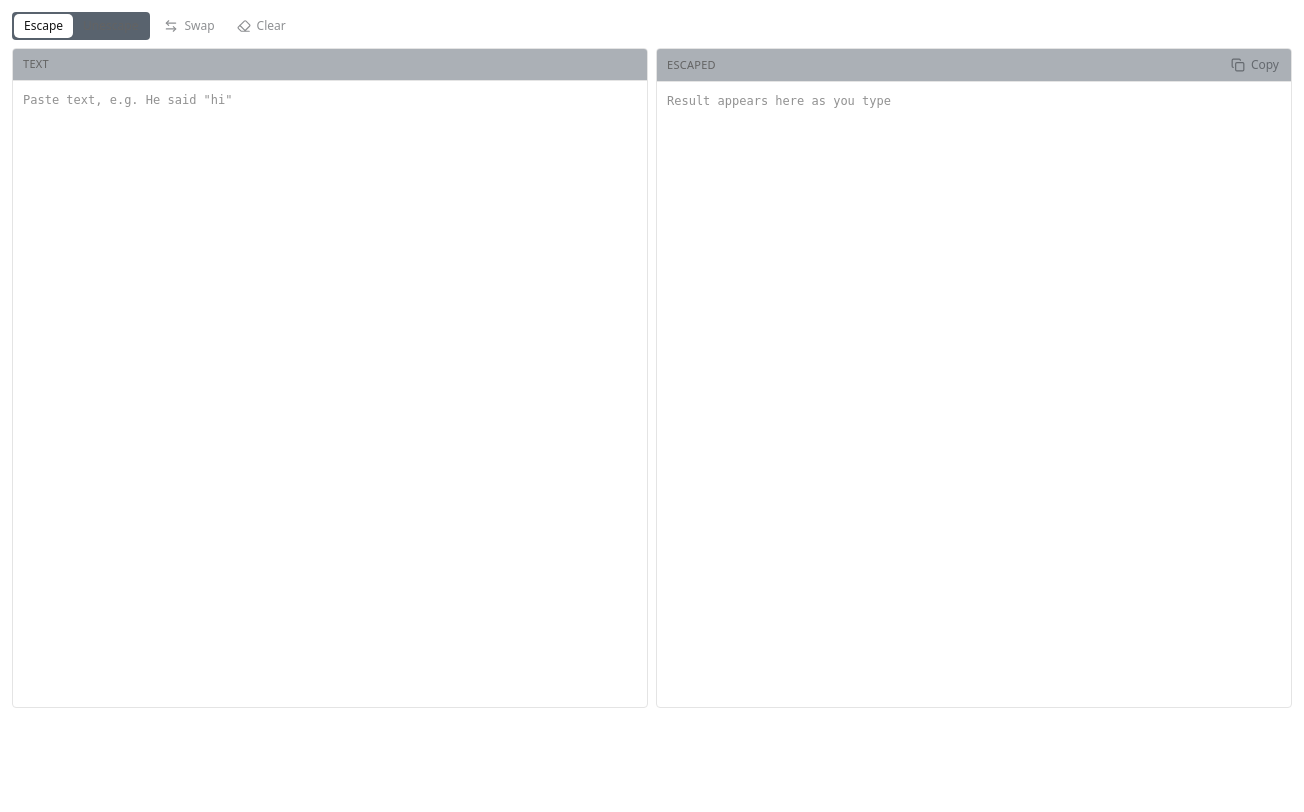
Test: JsonEscape › updates the store as you type and clears
Type "a\"b" into the text box named "Input" at {"x": 330, "y": 394}, box top-left (13, 81), bottom-right (647, 707)
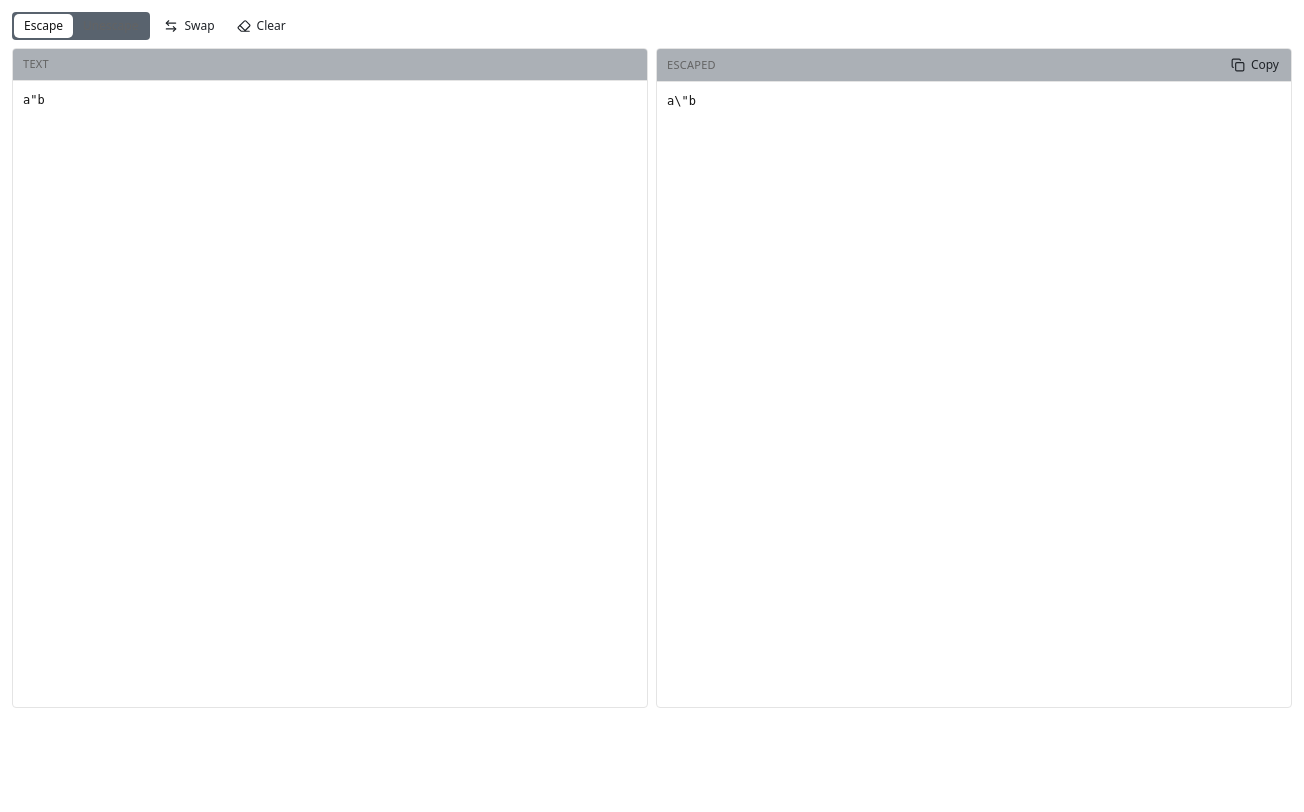
Expected: the text box named "Output" holds "a\\\"b", top-left (657, 82), bottom-right (1291, 707)
Click the button "Clear" at {"x": 261, "y": 26}, box top-left (229, 12), bottom-right (294, 40)
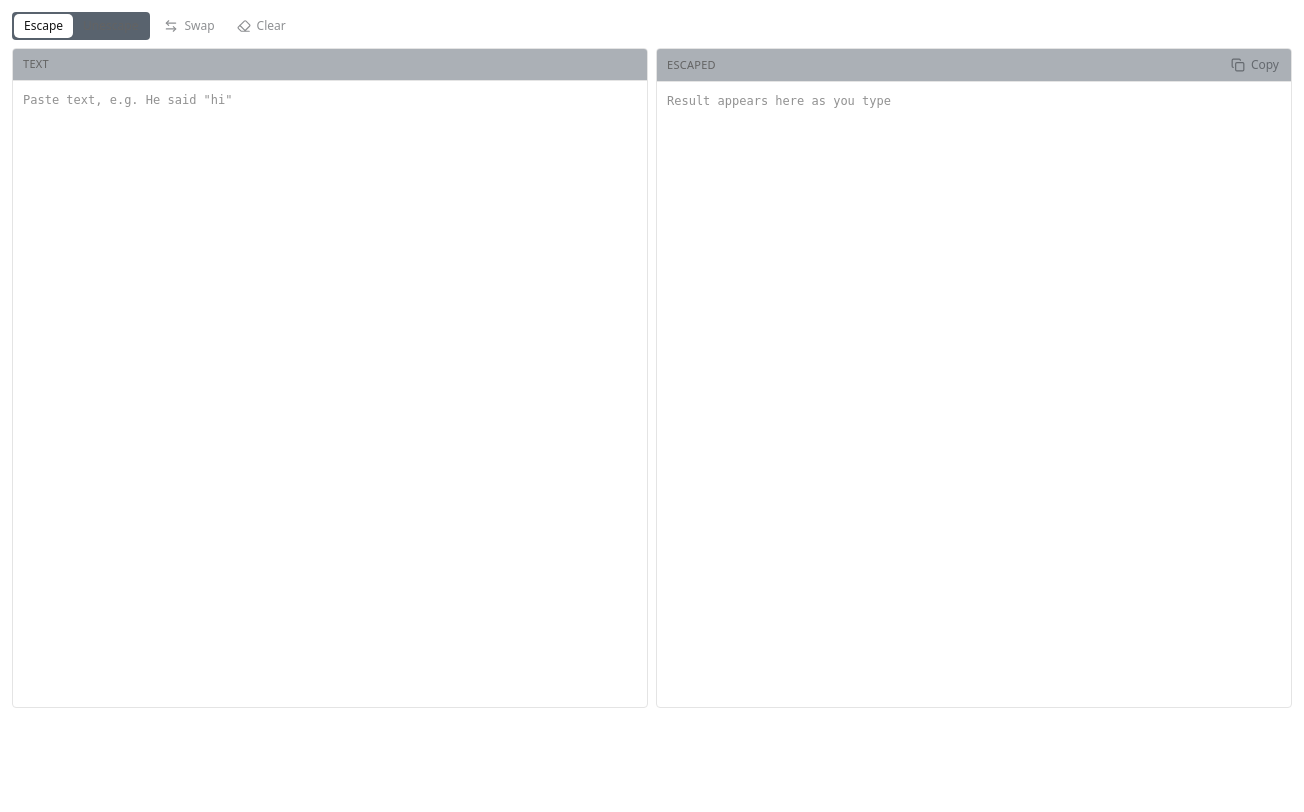
Expected: the text box named "Input" is empty, top-left (13, 81), bottom-right (647, 707)
Expected: the text box named "Output" is empty, top-left (657, 82), bottom-right (1291, 707)
